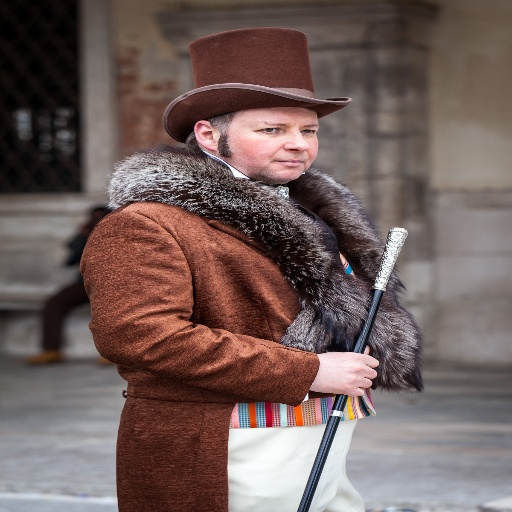hand: (308, 351, 383, 403)
